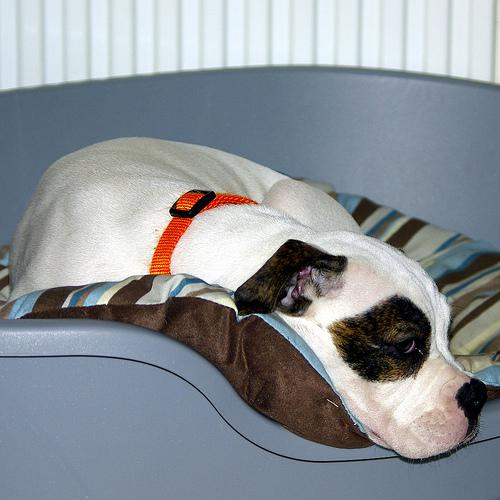dog-american_bulldog: (234, 238, 485, 457)
